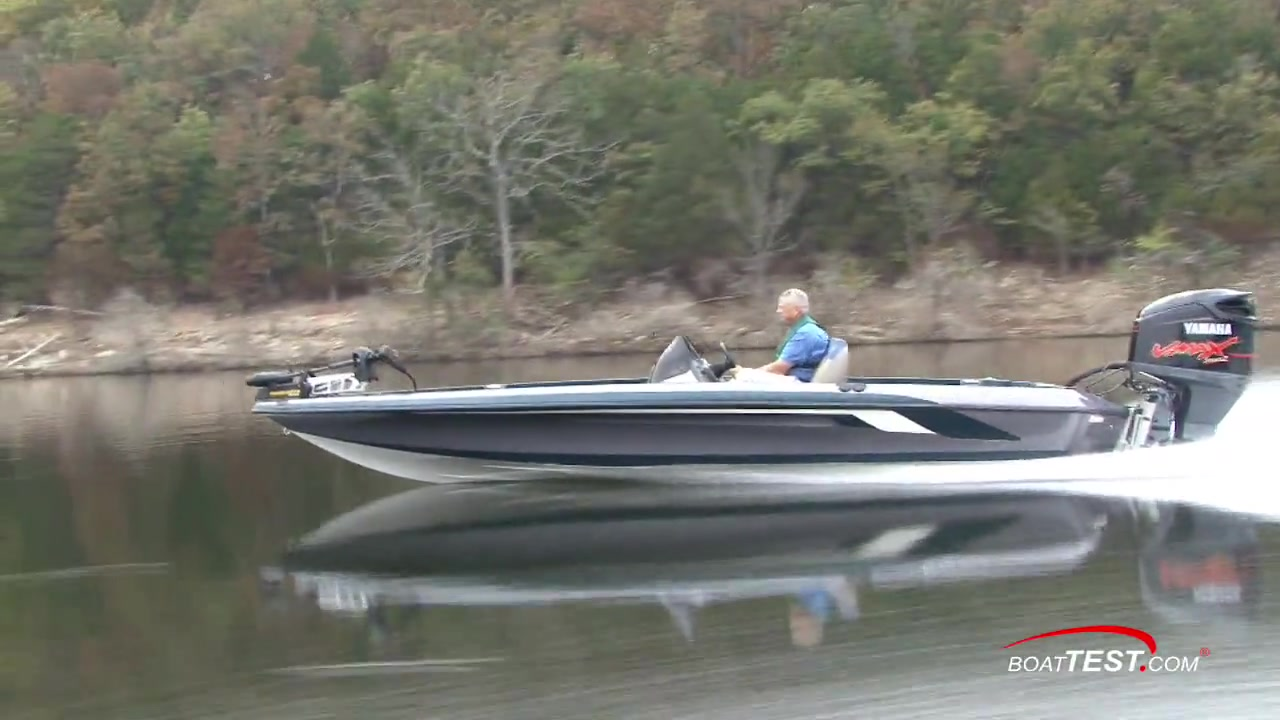boat: (244, 288, 1263, 467)
